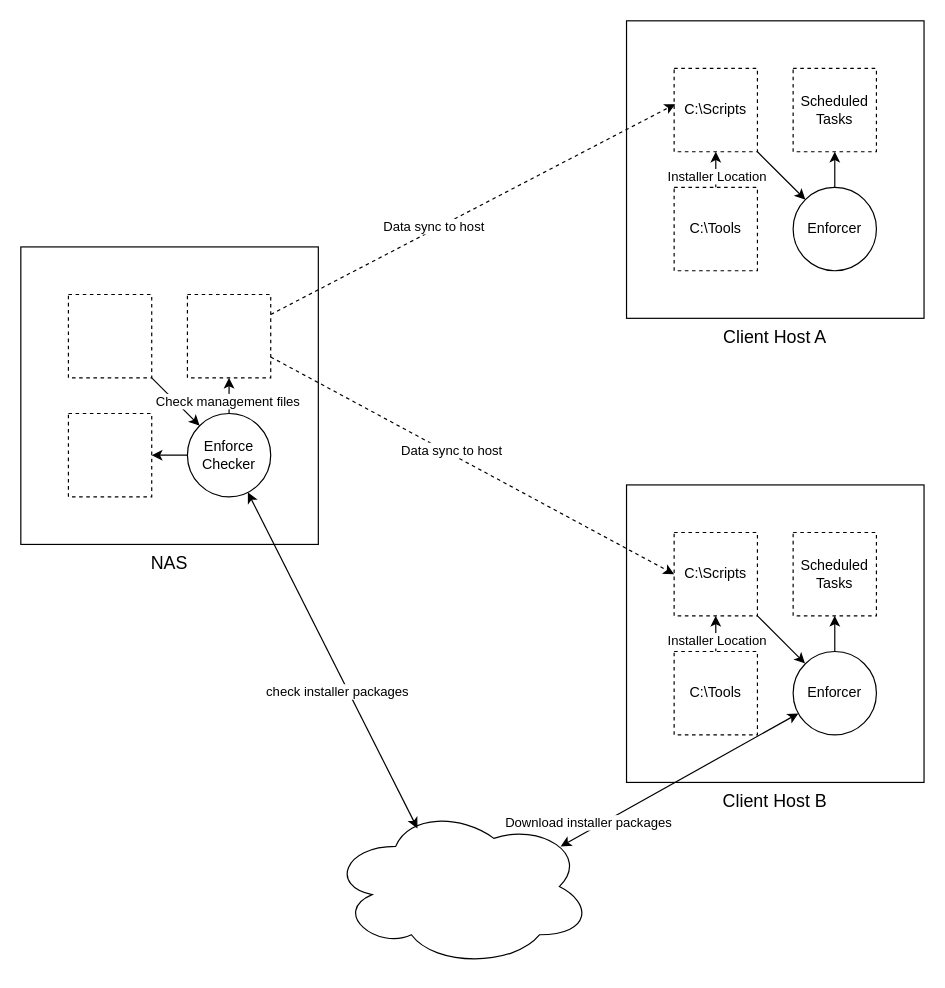
Image size: 945x988. Some labels were removed from this diagram. Here are the shapes that lost their labels. From the top down, the centre of each, then its label:
pixel 109 335: Crontab
pixel 228 335: Z:\nas\*
pixel 109 454: Postfix
pixel 460 886: Public Packages -GitHub -Winget -Winget database
